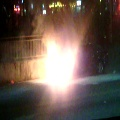fire: (37, 39, 75, 90)
